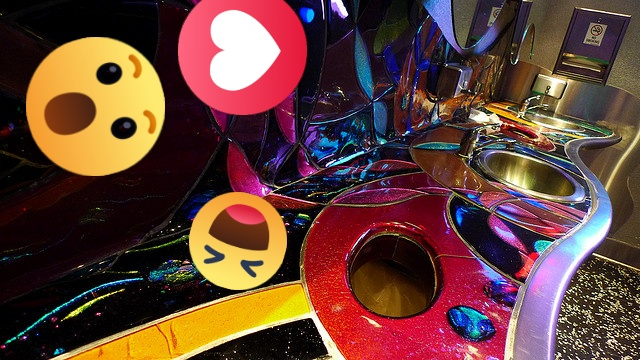haha: (189, 192, 287, 290)
love: (178, 0, 307, 115)
wow: (26, 37, 165, 176)
